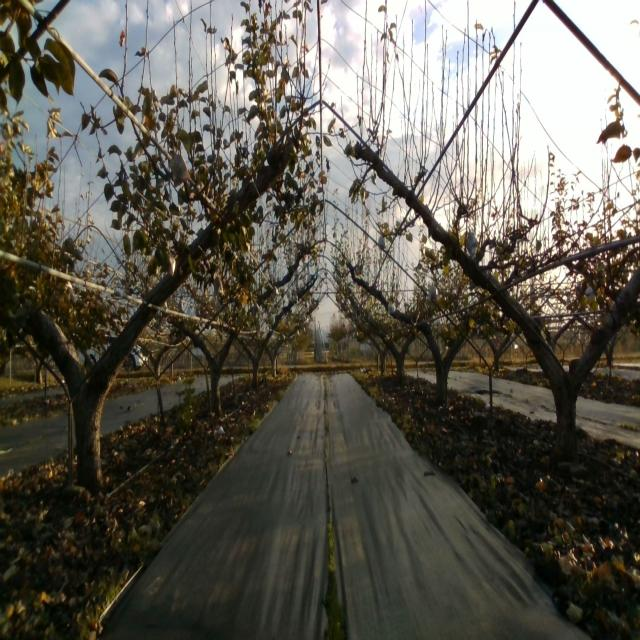pearbags: (171, 146, 191, 188), (466, 230, 478, 260), (429, 286, 439, 304)
